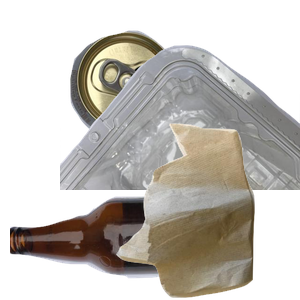glass: (10, 188, 250, 300)
metal: (68, 28, 237, 159)
plastic: (60, 43, 300, 223)
trash: (114, 121, 300, 300)
